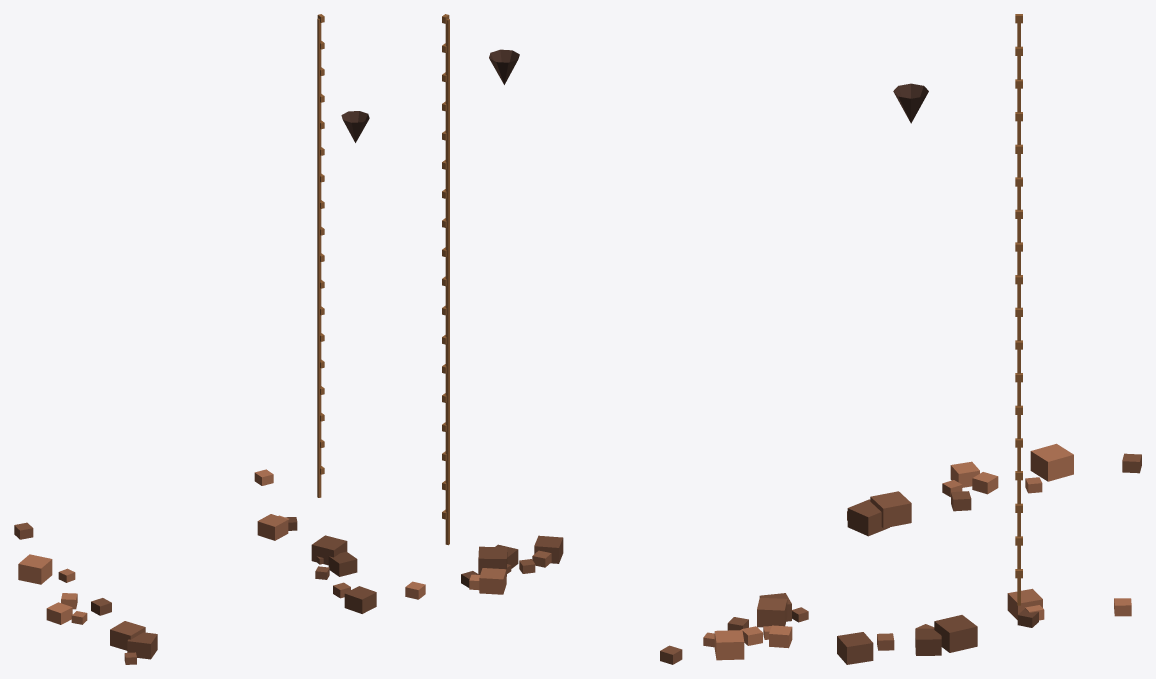
The model's file is shaft_drop_detail2.glb.
3 views of the same model, side by side, from view 1: azimuth 30°, elevation 25°; view 2: azimuth 150°, elevation 25°; view 3: azimuth 270°, elevation 25° (orthographic). The views are drawn at different scales.
Visible parts, largest first — view 1: shaft_drop_detail2; view 2: shaft_drop_detail2; view 3: shaft_drop_detail2.
Part boxes in pixels (left/top/right/bottom): shaft_drop_detail2: left=14, top=14, right=376, bottom=664; shaft_drop_detail2: left=405, top=14, right=808, bottom=664; shaft_drop_detail2: left=837, top=14, right=1141, bottom=664.
Size of the model in its own units: 11.69 by 20.18 by 8.46.
